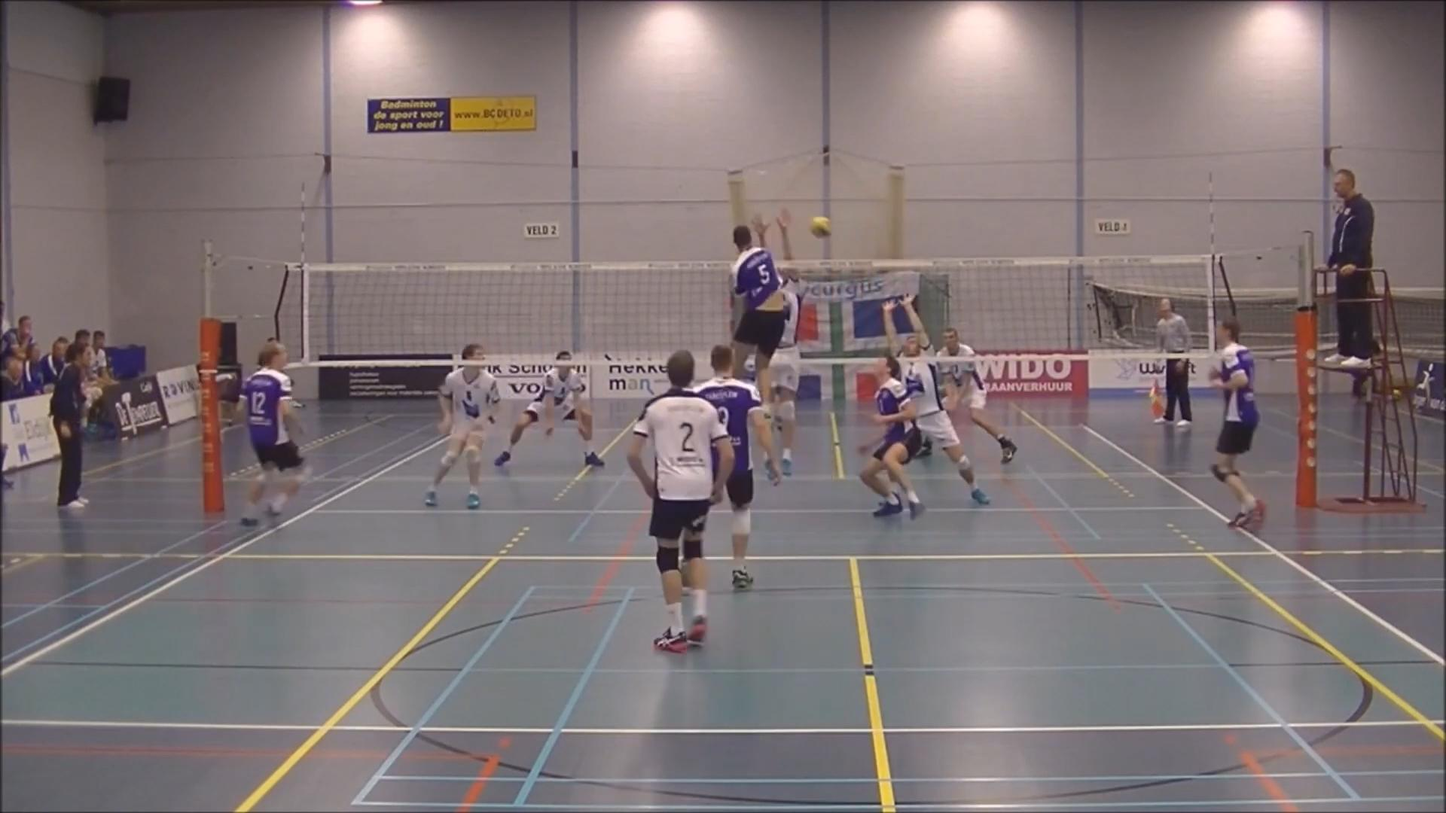attacco: (728, 225, 793, 425)
muro: (751, 213, 798, 287)
